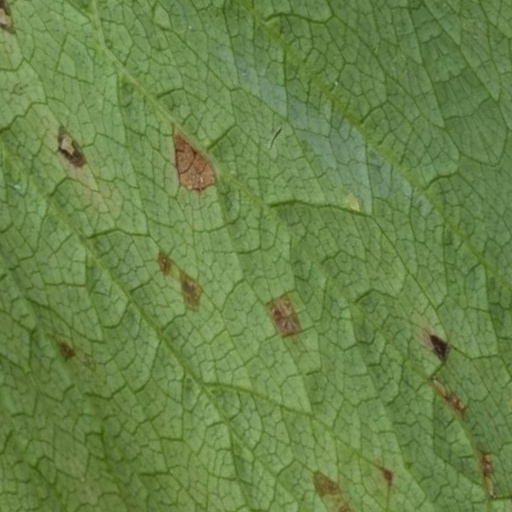Angular Leafspot: (34, 0, 494, 466)
